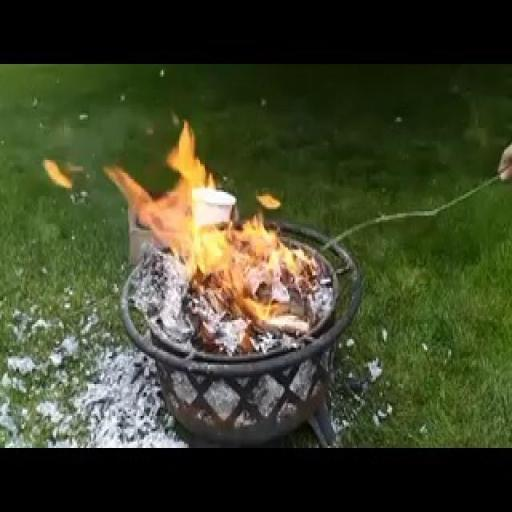smoke: (94, 102, 325, 336)
